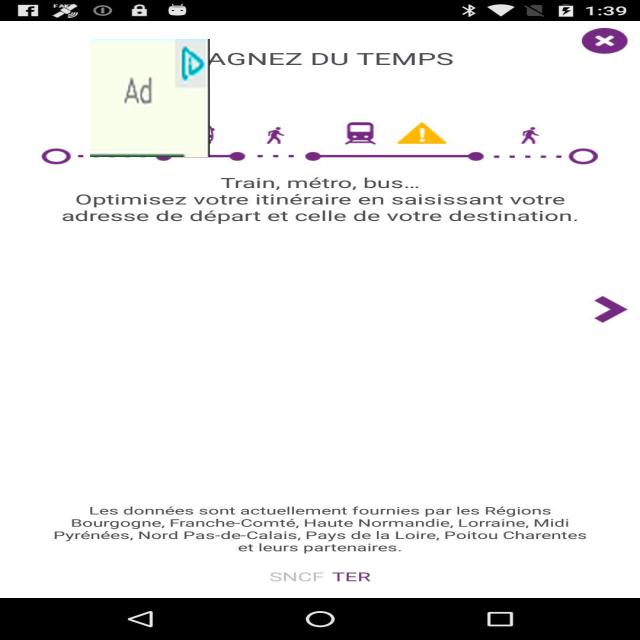sneaking: (90, 39, 210, 157)
